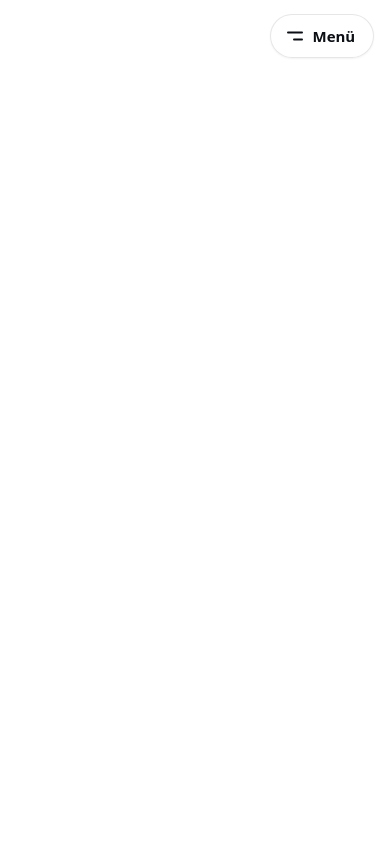
Scenario: Mobilnavigation — Aufbau › zeigt auf Ebene 1 drei Hauptziele und keine Nischen
This screenshot has width=390, height=844.
What coordinates should you click on to do the following:
click the button with aria-label "Navigation öffnen"
I would click on:
 (322, 36)
Its box is [270,14,374,58].
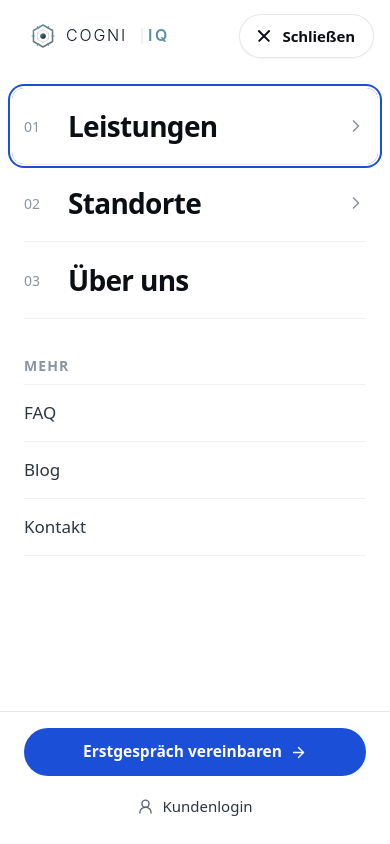
expect the button "01 Leistungen" is shown: met, box [12,88,378,164]
expect the button "02 Standorte" is shown: met, box [12,165,378,241]
